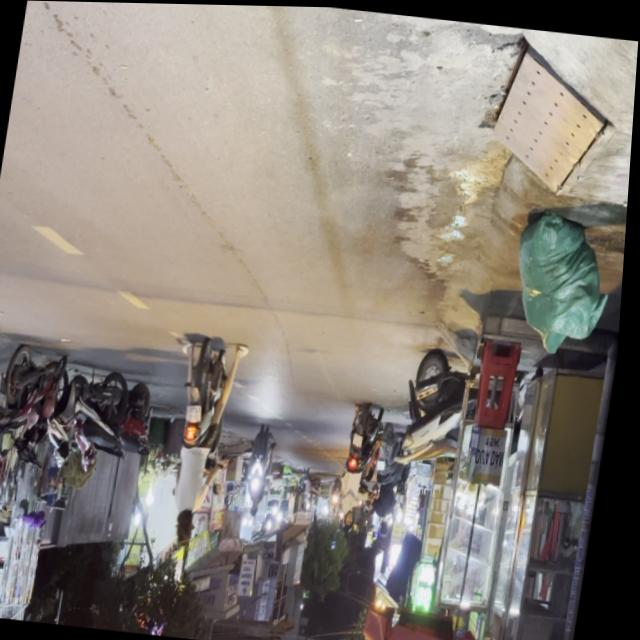licenseplate: (163, 333, 248, 550)
motorcyclist: (178, 510, 201, 545)
nohelmet: (189, 403, 207, 422)
